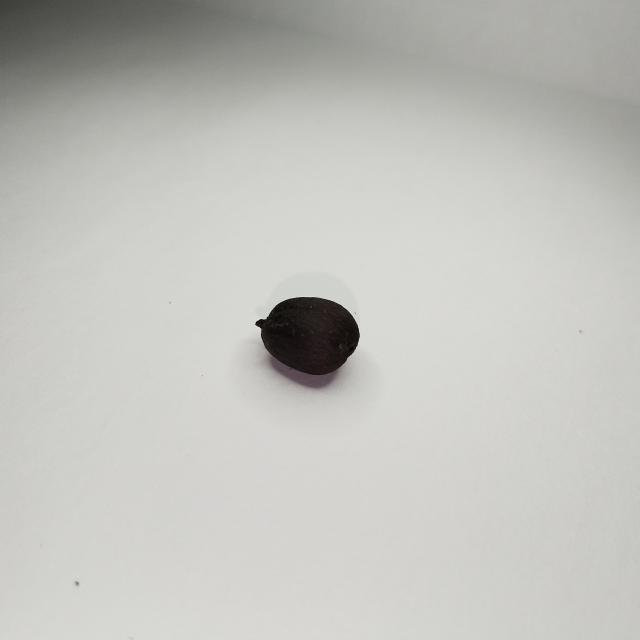Danado: (256, 292, 362, 379)
